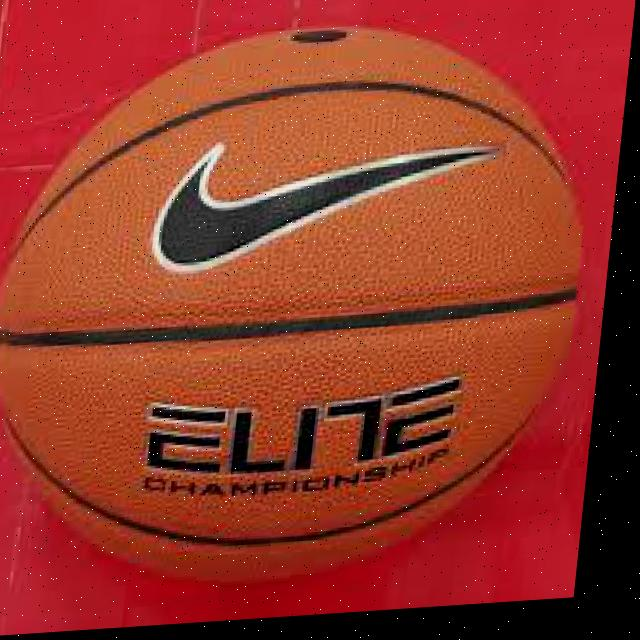Basketball: (0, 8, 607, 598)
